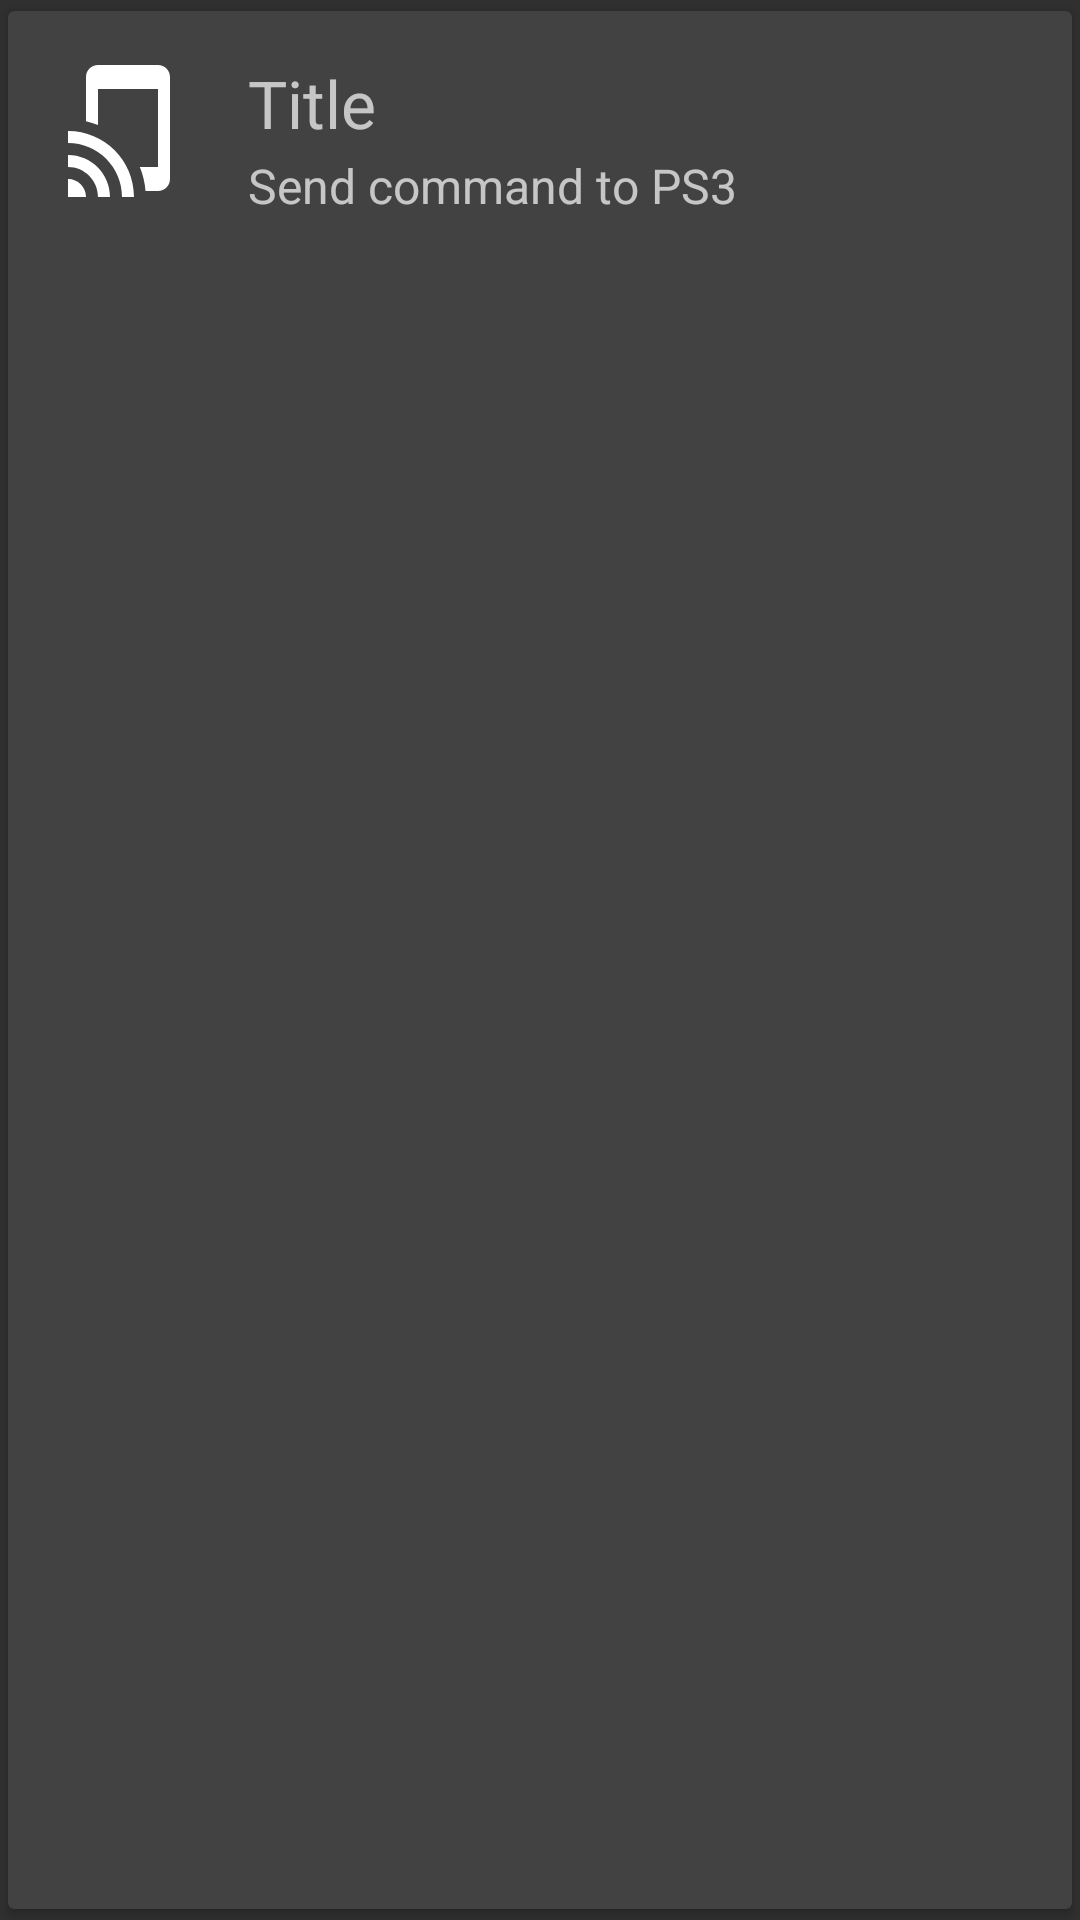

Where to tap for icons on this 1080px×1920px app screen, as point (x, y):
tap and play: point (119, 131)
